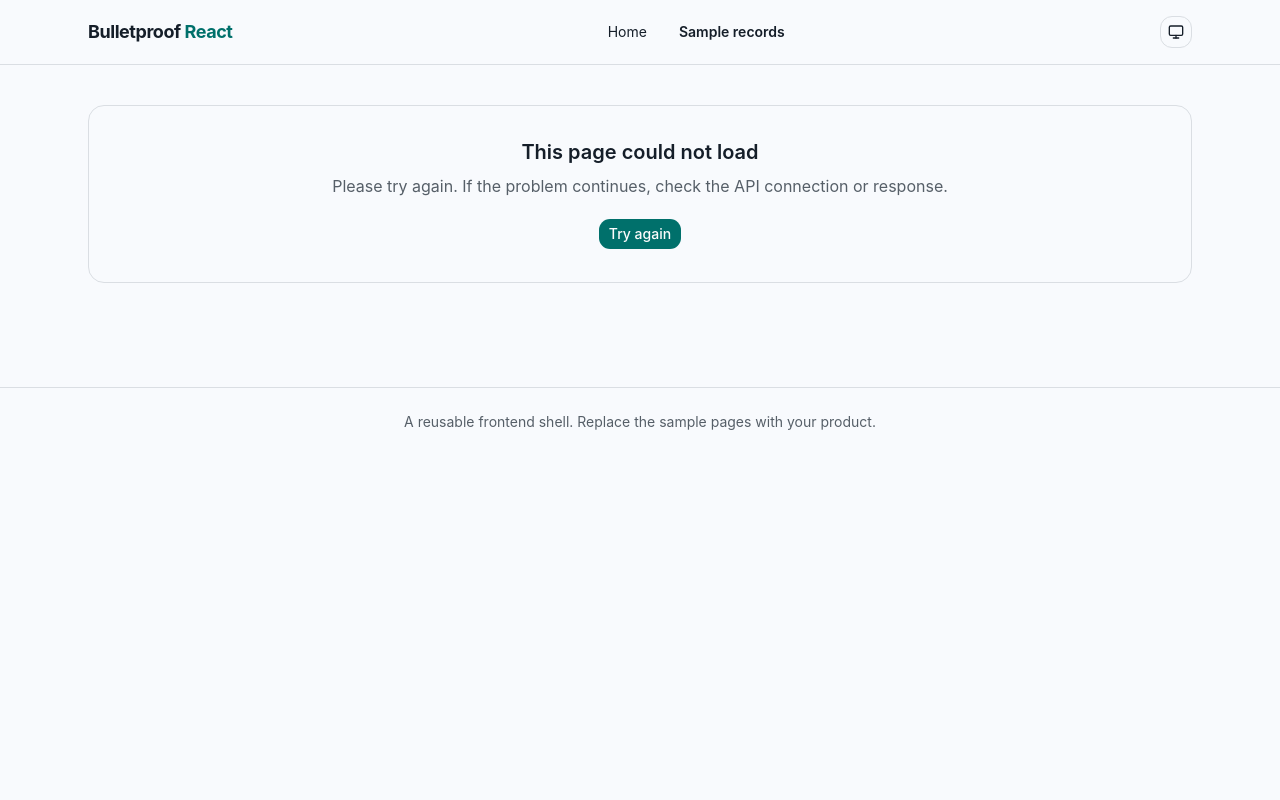
Scenario: application routes › recovers from a transient mock failure on retry
The image size is (1280, 800).
Expected: the heading "This page could not load" is shown, top-left (521, 140), bottom-right (759, 164)
Click the button "Try again" at {"x": 640, "y": 234}, box top-left (598, 218), bottom-right (682, 250)
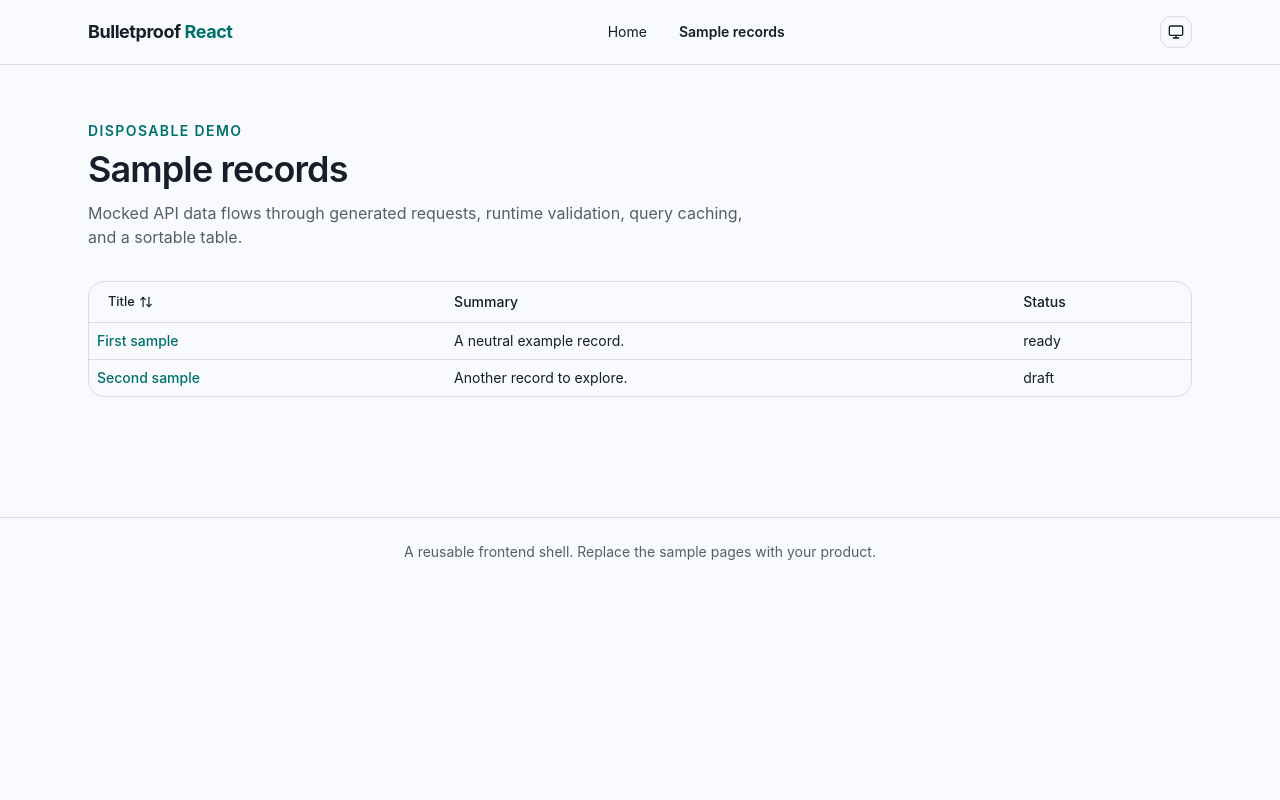
Result: the link "First sample" is shown at top-left (97, 332), bottom-right (179, 348)
